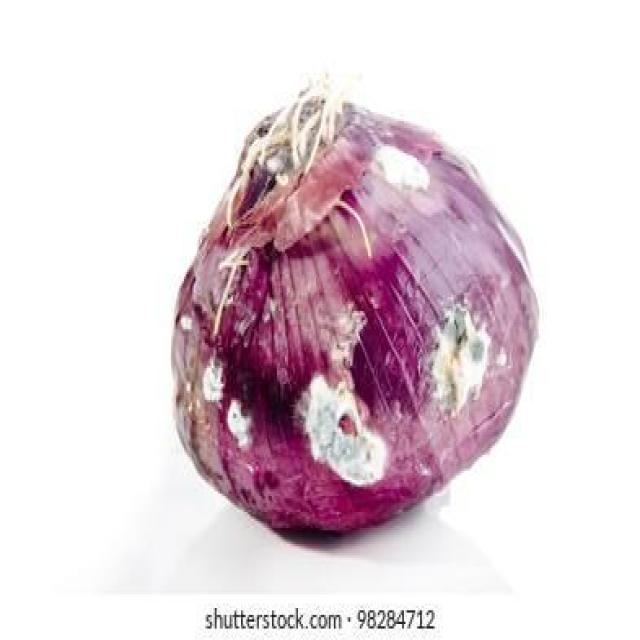Onion: (169, 71, 539, 542)
